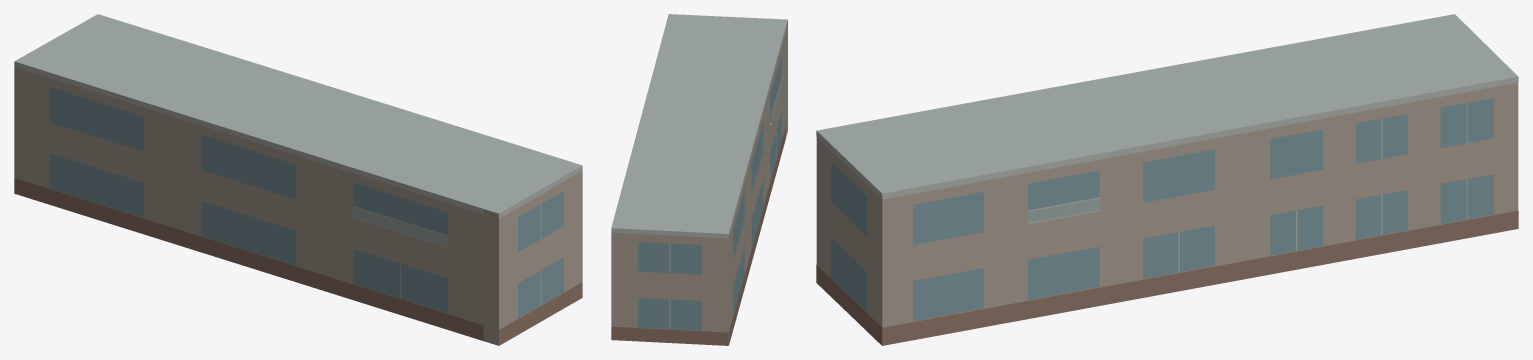
File: survey-upis-32678629.glb
3 renders of one model, left to right at view 1: azimuth 30°, elevation 25°; view 2: azimuth 150°, elevation 25°; view 3: azimuth 270°, elevation 25°, orthographic. The views are drawn at different scales.
Parts seen in each view (by area): view 1: survey-upis-32678629.tmp; view 2: survey-upis-32678629.tmp; view 3: survey-upis-32678629.tmp.
Boxes of the visible parts, left/top/right/bottom form: survey-upis-32678629.tmp: left=14, top=14, right=582, bottom=345; survey-upis-32678629.tmp: left=611, top=14, right=787, bottom=345; survey-upis-32678629.tmp: left=816, top=14, right=1518, bottom=345.
Size of the model in its own units: 15.45 by 6.1 by 25.5.
